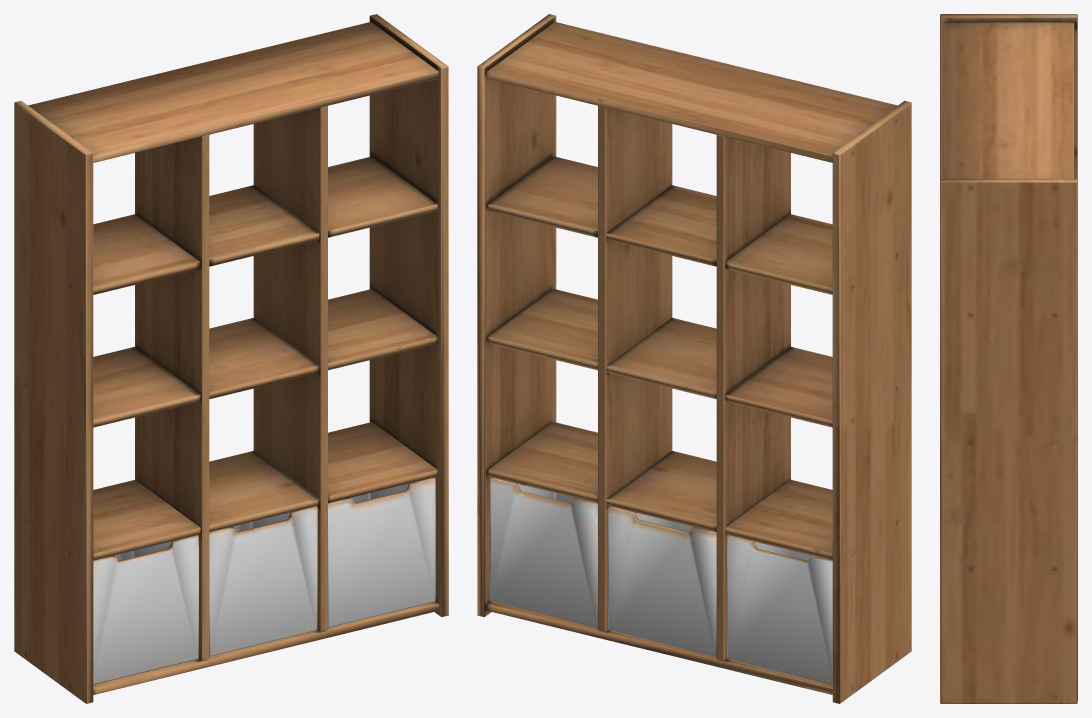
Rendered from shelf_display.glb.
3 views of the same model, side by side, from view 1: azimuth 30°, elevation 25°; view 2: azimuth 150°, elevation 25°; view 3: azimuth 270°, elevation 25° (orthographic). The views are drawn at different scales.
Parts seen in each view (by area): view 1: shelf_display; view 2: shelf_display; view 3: shelf_display.
Part boxes in pixels (x1=…): shelf_display: x1=14, y1=14, x2=448, y2=703; shelf_display: x1=477, y1=14, x2=911, y2=703; shelf_display: x1=940, y1=14, x2=1077, y2=703.
Size of the model in its own units: 1.08 by 1.55 by 0.3716.
Materials: 1 (1 with a texture image).
